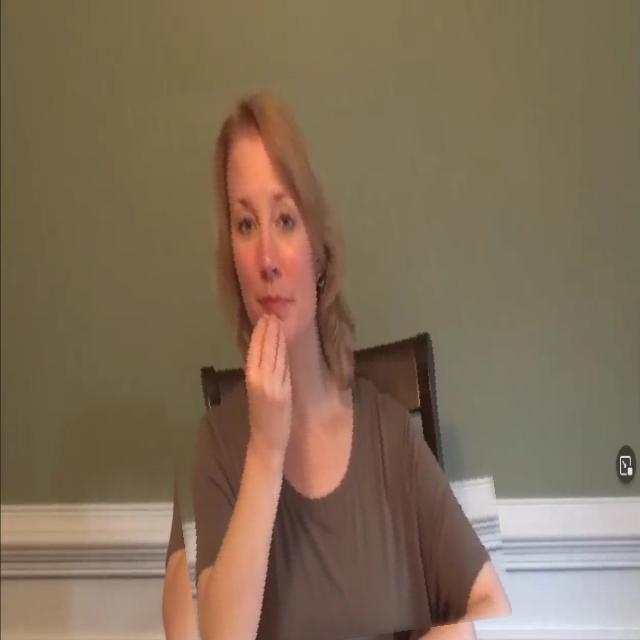Food: (141, 67, 493, 640)
